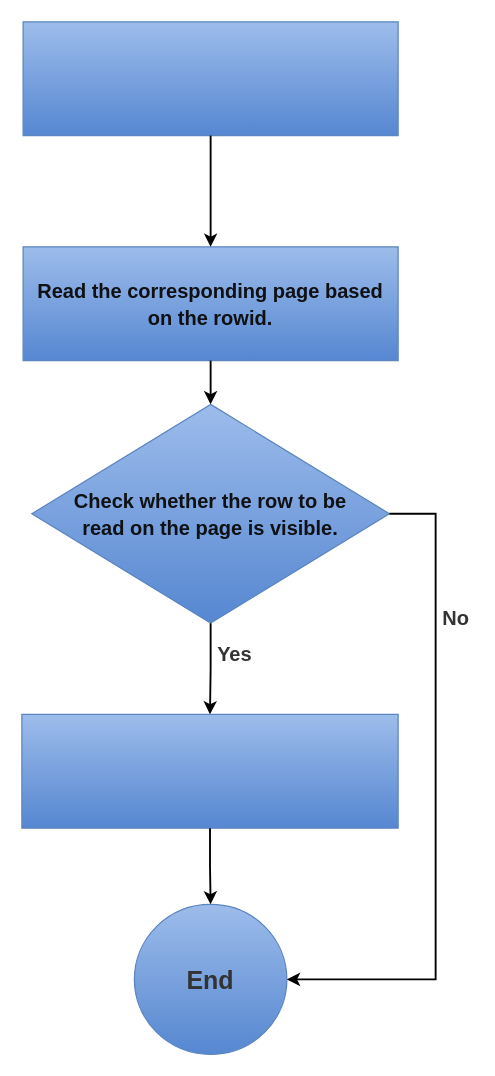
This 495x1076 diagram has some shape labels left out. The box of each missing label's shape, as (x1, y1, x2, y2) in pixels:
Construct a consistent visible page.: (21, 713, 398, 828)
Obtain the current SCN as the QUERY_SCN at the start of SQL execution.: (22, 21, 398, 136)
